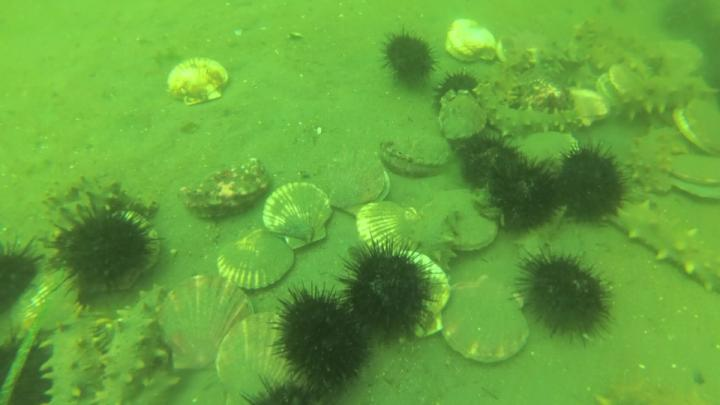echinus: (518, 250, 617, 345), (273, 286, 368, 384), (52, 200, 154, 291), (345, 241, 431, 339), (489, 158, 561, 232), (559, 144, 626, 223), (1, 235, 43, 320), (379, 29, 440, 85), (460, 140, 518, 193), (245, 378, 332, 405), (435, 70, 482, 97)
holothurian: (614, 200, 719, 293), (92, 290, 163, 405), (40, 313, 106, 405), (474, 83, 569, 139), (584, 19, 659, 79), (612, 81, 715, 124), (41, 178, 144, 213), (624, 132, 674, 195), (426, 207, 461, 270), (515, 224, 559, 273)
scallop: (160, 270, 258, 375), (444, 272, 536, 367), (217, 305, 291, 405), (418, 188, 502, 254), (262, 179, 338, 250), (217, 227, 300, 291), (356, 198, 424, 260), (324, 158, 395, 217), (113, 209, 160, 294), (163, 55, 235, 109), (412, 249, 453, 343), (381, 128, 453, 179), (442, 17, 500, 66), (664, 155, 720, 203), (673, 98, 720, 155), (439, 91, 489, 144), (654, 38, 710, 79), (511, 130, 580, 161), (571, 87, 609, 131), (596, 60, 628, 111)
